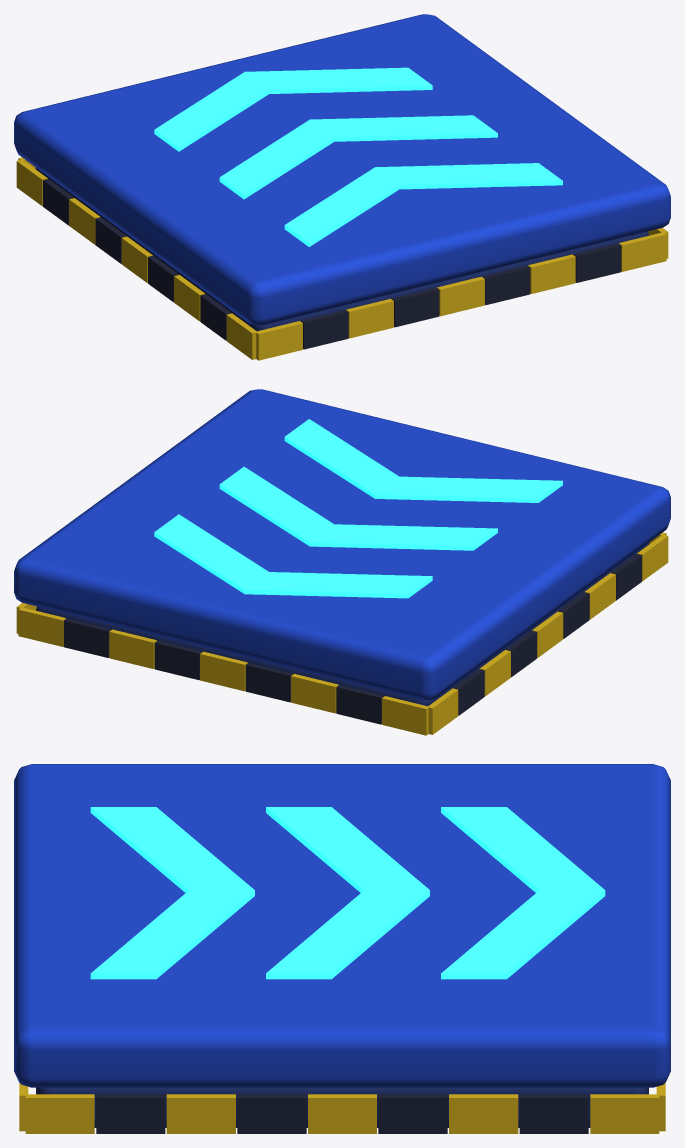
File: PLAT_Moving.glb
3 views of the same model, one above another, from view 1: azimuth 30°, elevation 25°; view 2: azimuth 150°, elevation 25°; view 3: azimuth 270°, elevation 25° (orthographic). The views are drawn at different scales.
Parts seen in each view (by area): view 1: Body, Glow; view 2: Body, Glow; view 3: Body, Glow.
Part boxes in pixels (left/top/right/bottom): Body: left=14, top=14, right=670, bottom=360; Glow: left=154, top=67, right=562, bottom=246; Body: left=14, top=389, right=670, bottom=735; Glow: left=154, top=419, right=562, bottom=598; Body: left=14, top=764, right=670, bottom=1133; Glow: left=90, top=807, right=605, bottom=979.
Bounding box in the file's own units: 3 × 0.86 × 3.
